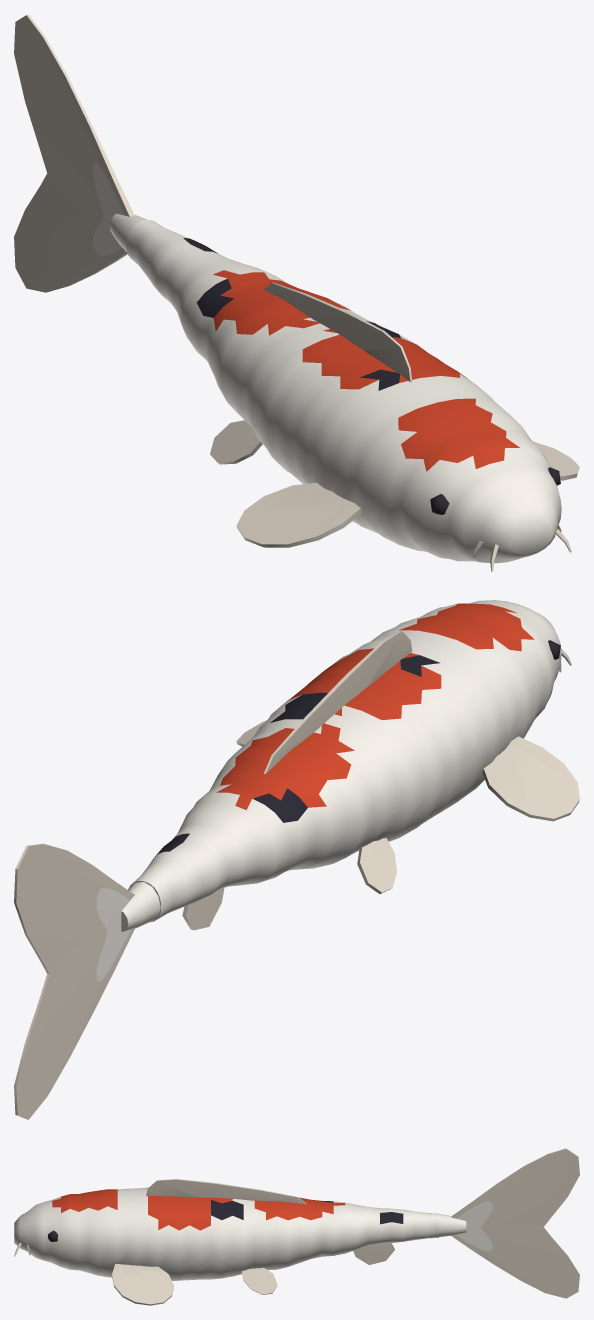
The model's file is koi_sanke.glb.
3 renders of one model, top to bottom at view 1: azimuth 30°, elevation 25°; view 2: azimuth 150°, elevation 25°; view 3: azimuth 270°, elevation 25°, orthographic. The views are drawn at different scales.
Parts seen in each view (by area): view 1: body, tail; view 2: body, tail; view 3: body, tail.
Part boxes in pixels (x1,y1,x2,y2): body: (126,220,579,571); tail: (14,14,147,292); body: (128,600,579,930); tail: (14,843,160,1119); body: (14,1179,438,1305); tail: (439,1148,579,1298).
Bounding box in the file's own units: 0.1362 × 0.109 × 0.3733.
